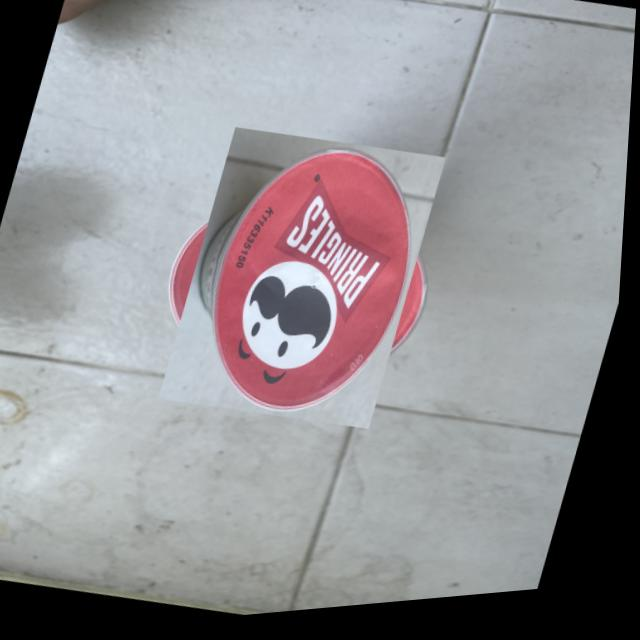a pringles: (150, 125, 460, 442)
